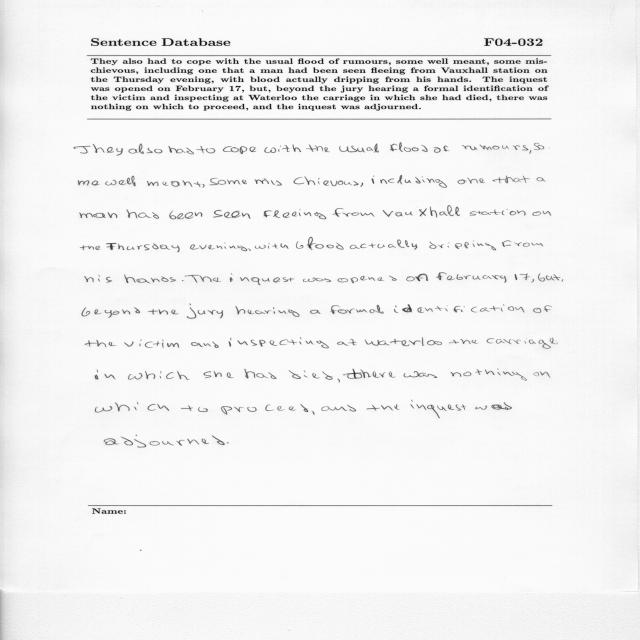word: (104, 435, 225, 448), (394, 304, 524, 313), (228, 338, 329, 349), (254, 177, 359, 187), (410, 400, 466, 418), (371, 175, 447, 188), (383, 206, 460, 218), (450, 369, 527, 380), (96, 402, 170, 413), (487, 338, 558, 349), (230, 273, 295, 285), (221, 405, 296, 415), (350, 239, 417, 250), (236, 306, 300, 317), (437, 273, 507, 283), (365, 338, 442, 347), (430, 241, 497, 251), (106, 243, 180, 252), (82, 307, 140, 318), (264, 209, 327, 219), (296, 237, 344, 250), (128, 371, 190, 380), (187, 304, 223, 319), (74, 144, 123, 155), (343, 369, 396, 379), (124, 274, 176, 284), (124, 340, 179, 349), (330, 305, 384, 314), (337, 276, 397, 284), (190, 243, 247, 251), (288, 370, 333, 380), (469, 209, 526, 216), (147, 181, 201, 188), (129, 143, 163, 154), (333, 208, 374, 217), (339, 144, 379, 153), (390, 143, 428, 152), (513, 143, 544, 154), (264, 144, 301, 153), (214, 210, 251, 219), (127, 209, 160, 219), (244, 369, 277, 379), (105, 176, 136, 186), (493, 176, 530, 184), (475, 402, 512, 410), (185, 275, 221, 283), (502, 240, 543, 247), (209, 178, 247, 185), (223, 146, 256, 154), (170, 211, 203, 219), (321, 405, 356, 412), (404, 371, 437, 378), (367, 404, 400, 411), (462, 145, 499, 151), (80, 212, 117, 218), (85, 340, 116, 347), (85, 275, 112, 283), (95, 370, 116, 380), (204, 371, 234, 378), (168, 146, 194, 154), (255, 243, 289, 249), (191, 341, 219, 348), (515, 273, 534, 283), (458, 178, 485, 185), (181, 405, 208, 412), (148, 309, 179, 315), (307, 145, 330, 153), (406, 274, 428, 282), (301, 404, 315, 415), (533, 305, 552, 313), (303, 277, 331, 282), (450, 339, 478, 344), (196, 146, 215, 153), (337, 339, 356, 346), (79, 180, 100, 186), (533, 371, 551, 378), (434, 145, 449, 153), (533, 210, 552, 216), (80, 245, 101, 250), (546, 274, 560, 280), (538, 273, 545, 282), (537, 177, 546, 182), (310, 310, 320, 314), (502, 145, 509, 149), (361, 182, 364, 187), (202, 184, 205, 188), (337, 379, 340, 383), (248, 249, 251, 251), (562, 279, 564, 282), (227, 442, 229, 444), (182, 280, 184, 281)
